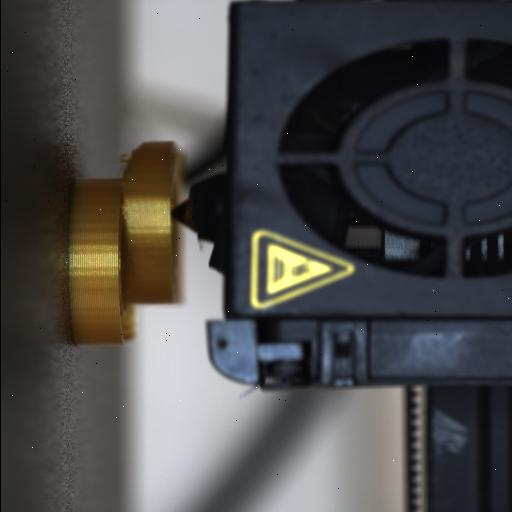layer_shift: (115, 150, 137, 346)
